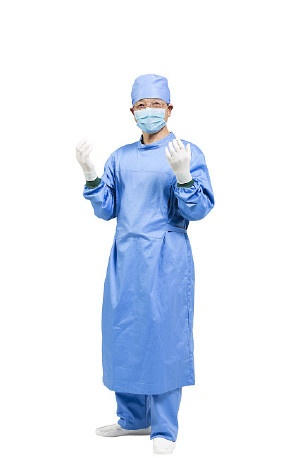Mask: (130, 98, 166, 133)
